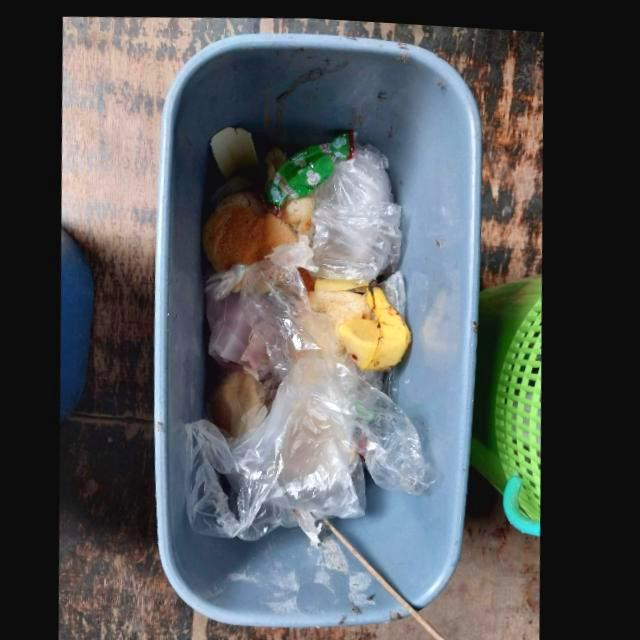food_wrapper: (268, 126, 356, 204)
left_over_food: (204, 188, 316, 269), (311, 282, 415, 366), (318, 273, 372, 287)
plastic_bag: (189, 236, 442, 537), (308, 137, 405, 276)
